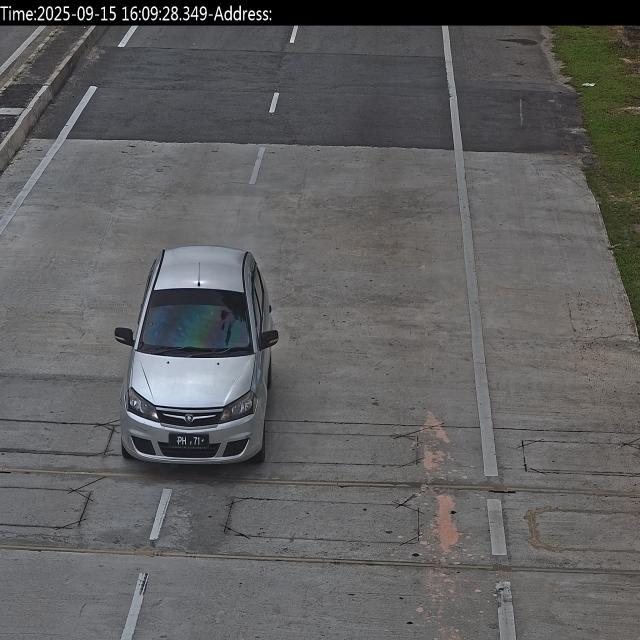front: (167, 432, 212, 451)
